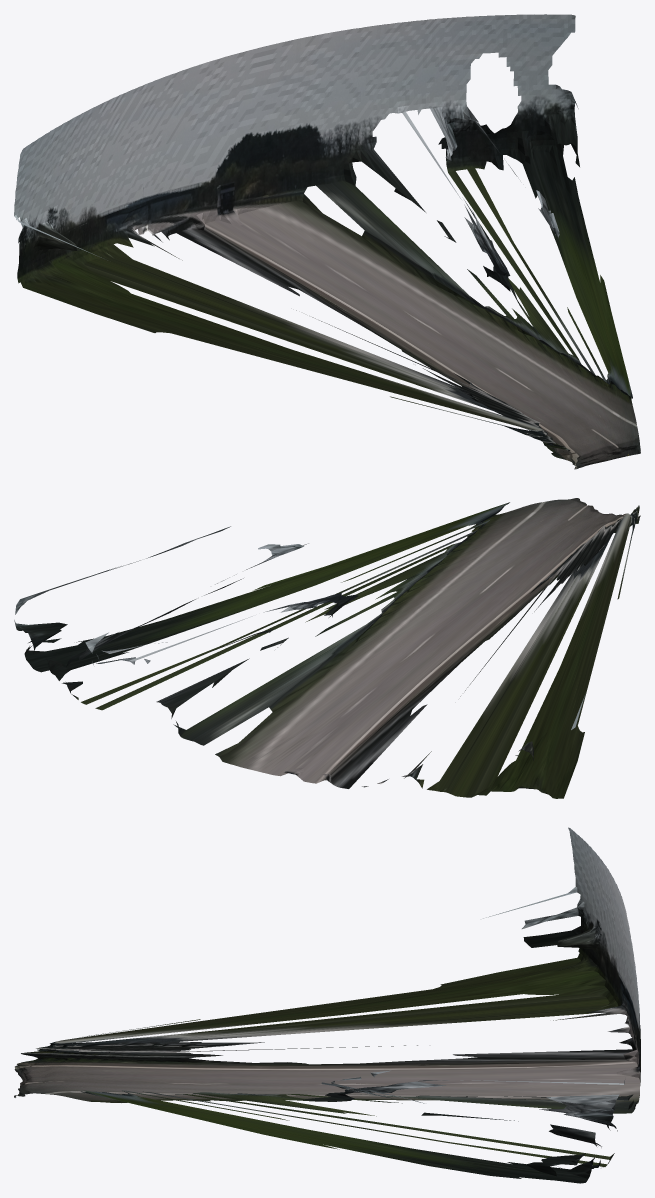
The picture shows the model from 3 angles, top to bottom: view 1: azimuth 30°, elevation 25°; view 2: azimuth 150°, elevation 25°; view 3: azimuth 270°, elevation 25°; orthographic projection. The views are drawn at different scales.
Parts seen in each view (by area): view 1: defaultobject; view 2: defaultobject; view 3: defaultobject.
Boxes of the visible parts, left/top/right/bottom form: defaultobject: left=14, top=14, right=640, bottom=469; defaultobject: left=14, top=498, right=640, bottom=798; defaultobject: left=14, top=827, right=640, bottom=1183.
Bounding box in the file's own units: 41.03 × 11.78 × 44.45.
Materials: 1 (1 with a texture image).
